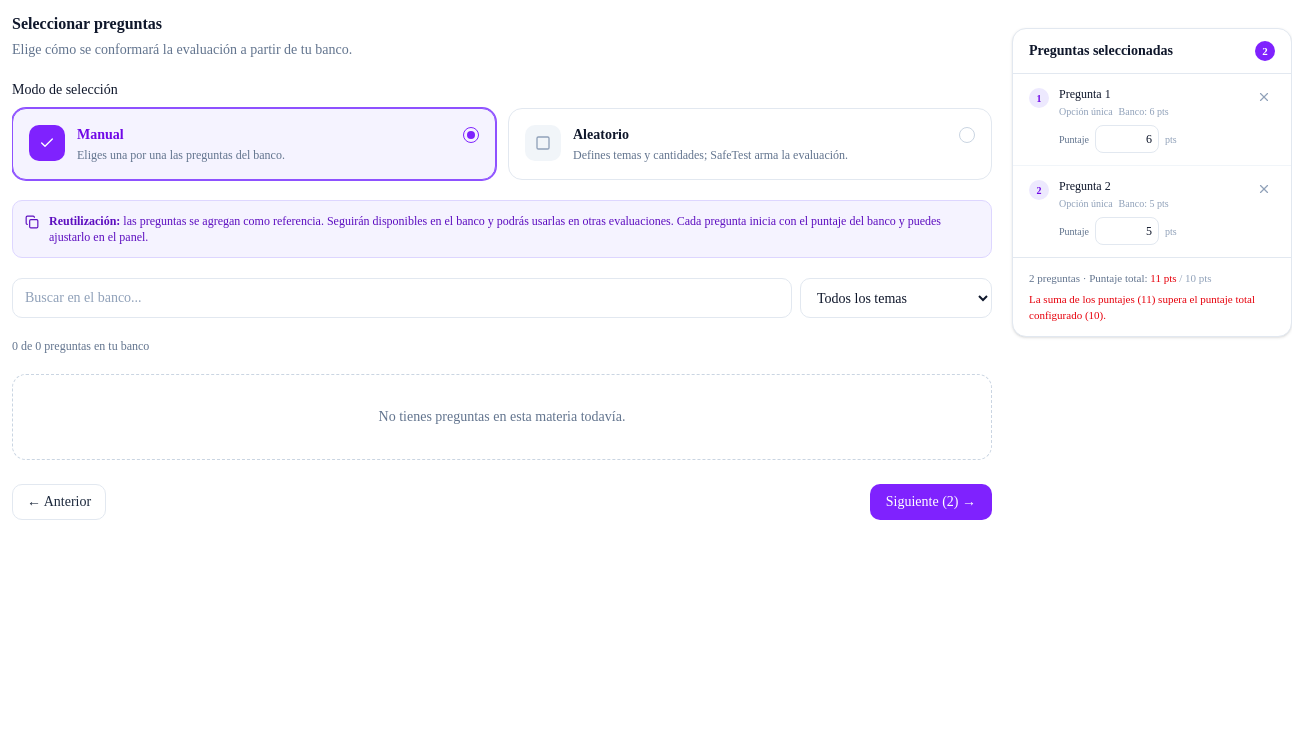
Scenario: SeleccionPreguntas — validación de la suma de puntajes › bloquea el guardado cuando la suma supera el puntaje total
Click the button "Siguiente (2) →". click: (931, 502)
box: [870,484,992,520]
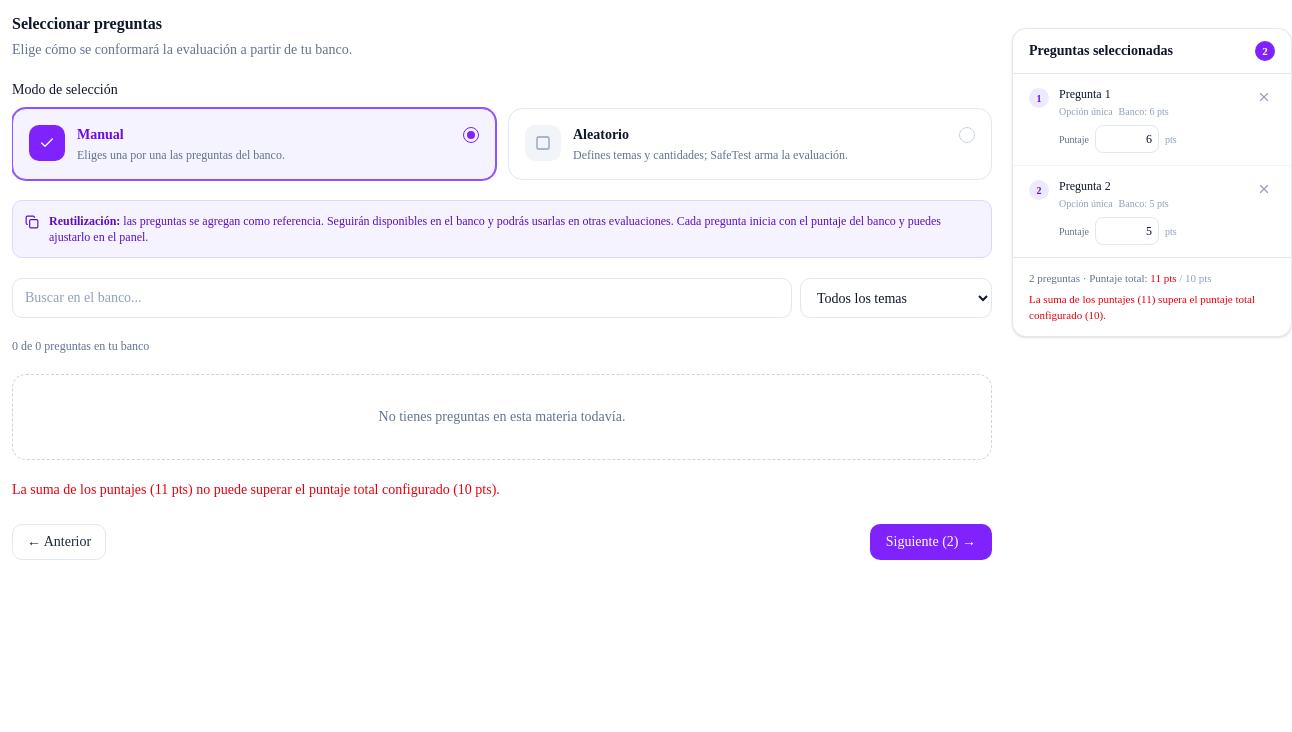
Expected: the text "La suma de los puntajes (11 pts) no puede superar el puntaje total configurado (10 pts)." is shown, [12,482,500,497]
